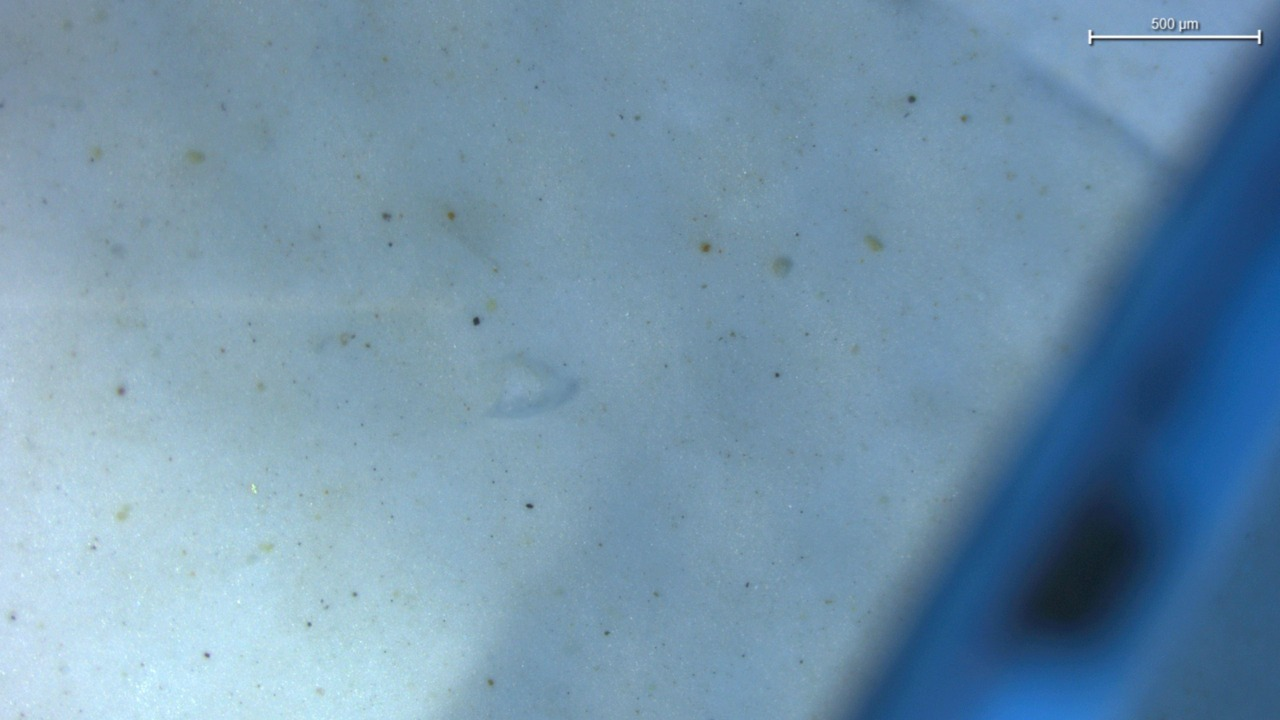microplastic_fragment: (488, 352, 578, 418)
